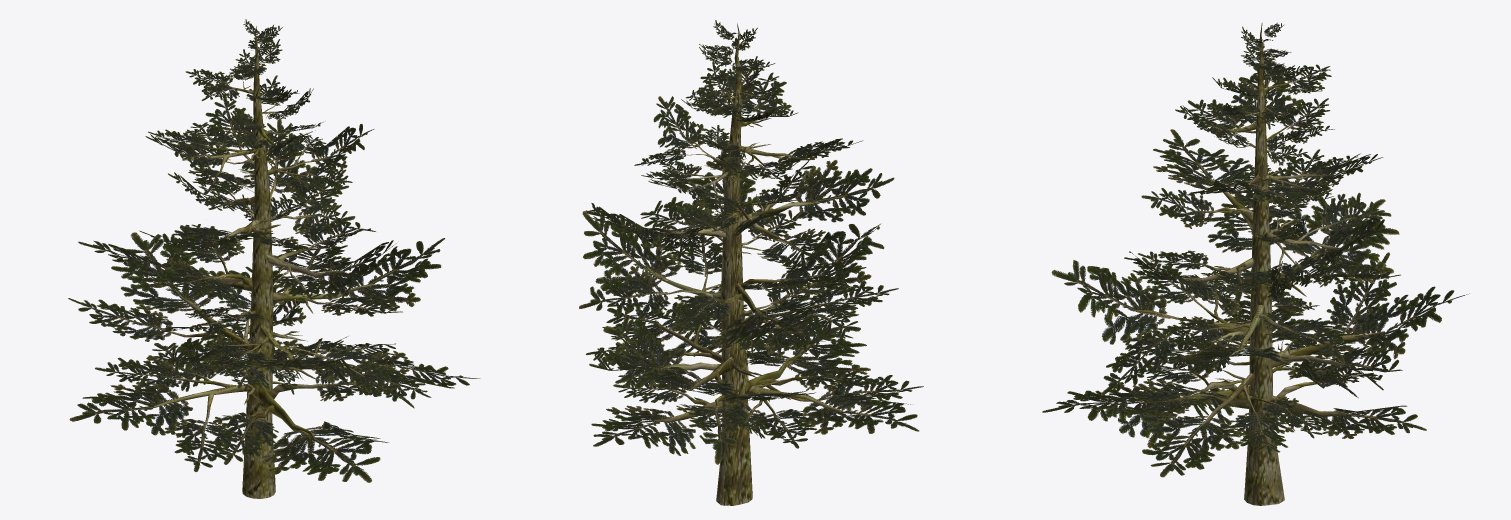
Rendered from Fir_Tree.FBX.
3 views of the same model, side by side, from view 1: azimuth 30°, elevation 25°; view 2: azimuth 150°, elevation 25°; view 3: azimuth 270°, elevation 25° (orthographic).
Parts seen in each view (by area): view 1: Fir_Branches, Fir_Trunk; view 2: Fir_Branches, Fir_Trunk; view 3: Fir_Branches, Fir_Trunk.
Part boxes in pixels (left/top/right/bottom): Fir_Branches: left=68, top=19, right=480, bottom=482; Fir_Trunk: left=152, top=26, right=395, bottom=498; Fir_Branches: left=579, top=20, right=923, bottom=464; Fir_Trunk: left=646, top=23, right=842, bottom=505; Fir_Branches: left=1042, top=22, right=1469, bottom=477; Fir_Trunk: left=1135, top=22, right=1384, bottom=505.
Size of the model in its own units: 1922 by 2081 by 1904.
Materials: 2 (2 with a texture image).
